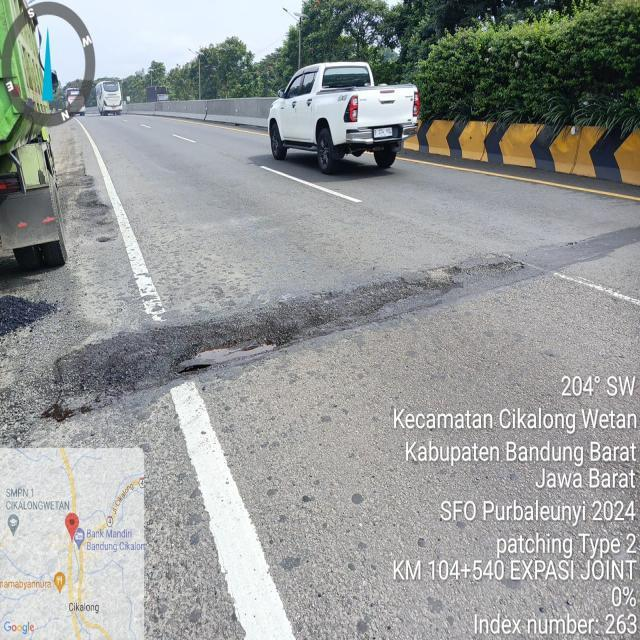Buraco: (30, 259, 528, 425), (68, 188, 110, 223), (56, 166, 96, 190), (94, 233, 119, 244), (93, 216, 116, 227)
